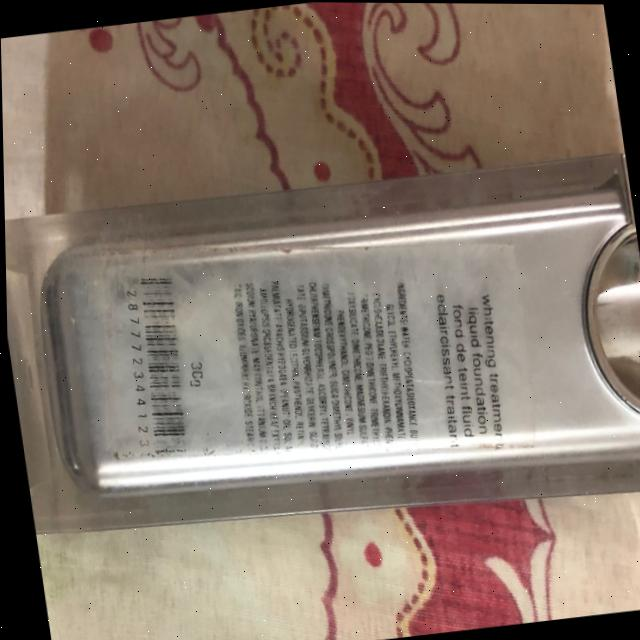perfume: (2, 115, 640, 612)
